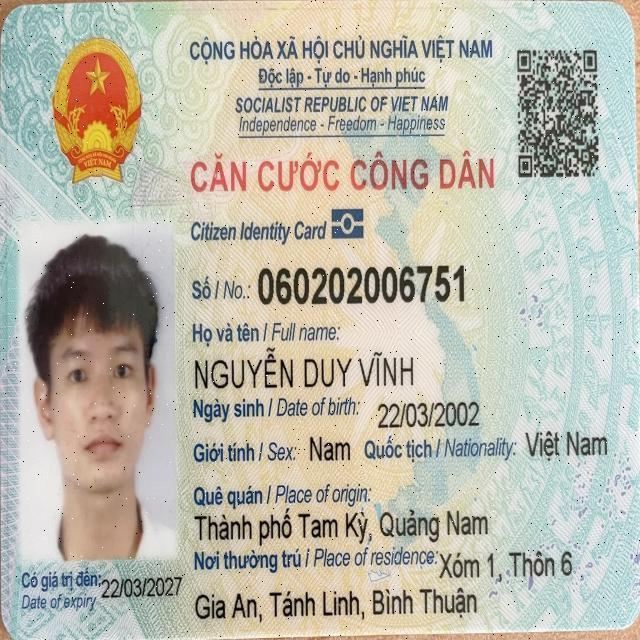current_place: (193, 587, 482, 619), (440, 549, 576, 580)
dob: (372, 396, 483, 431)
expire_date: (102, 572, 182, 600)
gender: (306, 427, 356, 468)
id: (254, 258, 467, 310)
name: (189, 344, 426, 395)
nationality: (523, 427, 613, 465)
origin_place: (195, 508, 493, 544)
